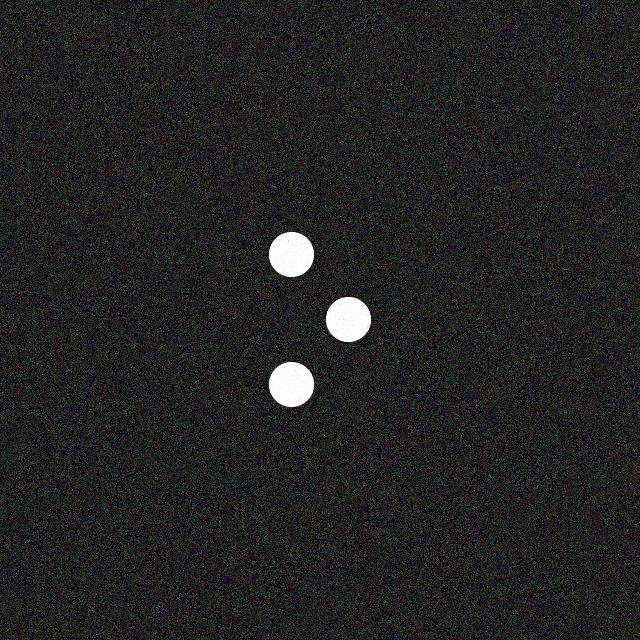O: (268, 230, 373, 411)
